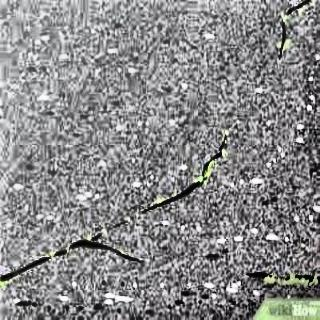crack: (2, 233, 143, 285), (141, 136, 230, 209), (250, 261, 315, 297), (277, 1, 309, 58)
